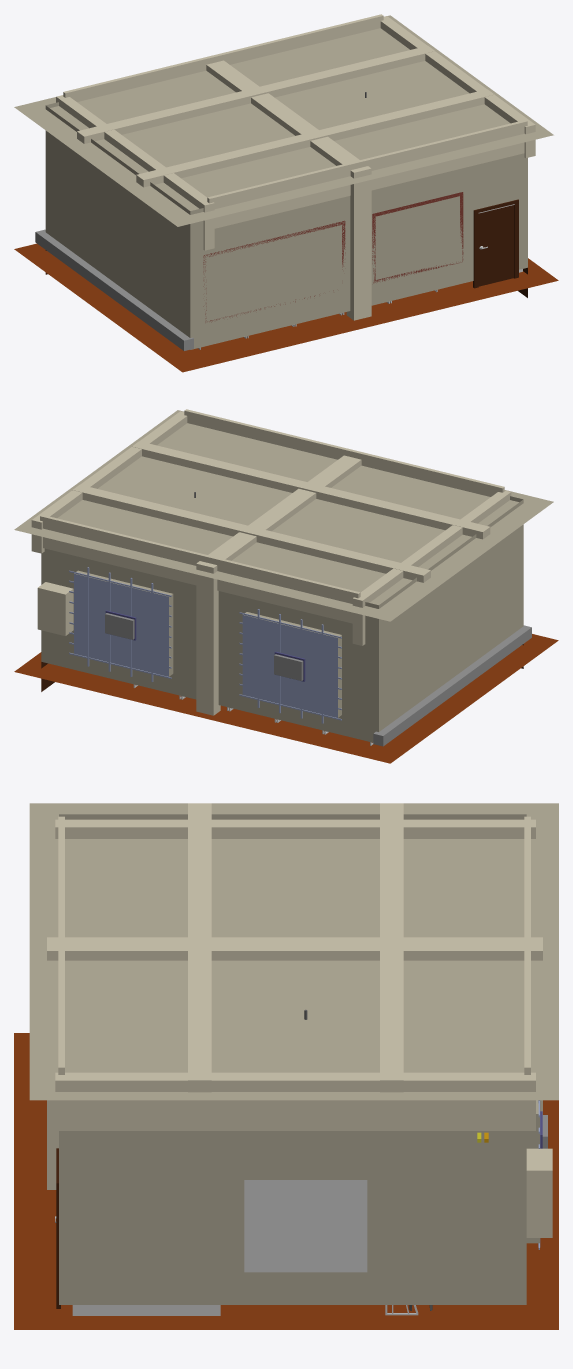
Rendered from E lib 1.fbx.
3 renders of one model, top to bottom at view 1: azimuth 30°, elevation 25°; view 2: azimuth 150°, elevation 25°; view 3: azimuth 270°, elevation 25°, orthographic. The views are drawn at different scales.
Parts seen in each view (by area): view 1: Plane.003; view 2: Plane.003; view 3: Plane.003.
Part boxes in pixels (bbox=[...]): Plane.003: bbox=[14, 14, 558, 372]; Plane.003: bbox=[14, 409, 558, 763]; Plane.003: bbox=[14, 803, 558, 1329].
Bounding box in the file's own units: 2226 × 1001 × 1726.
